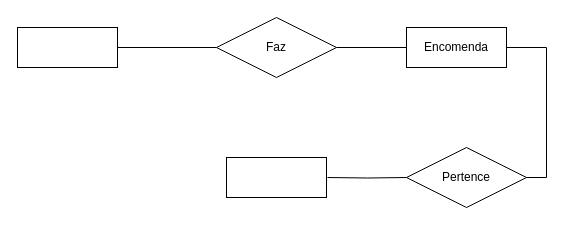
Some shapes in this 565 by 225 pixel diagram are drawn without their labels. The shapes that lost their labels are listed below. From the top down, each one's centre as x and y in pixels, then its label:
At point 67,47: "Cliente".
At point 276,177: "Produto".
